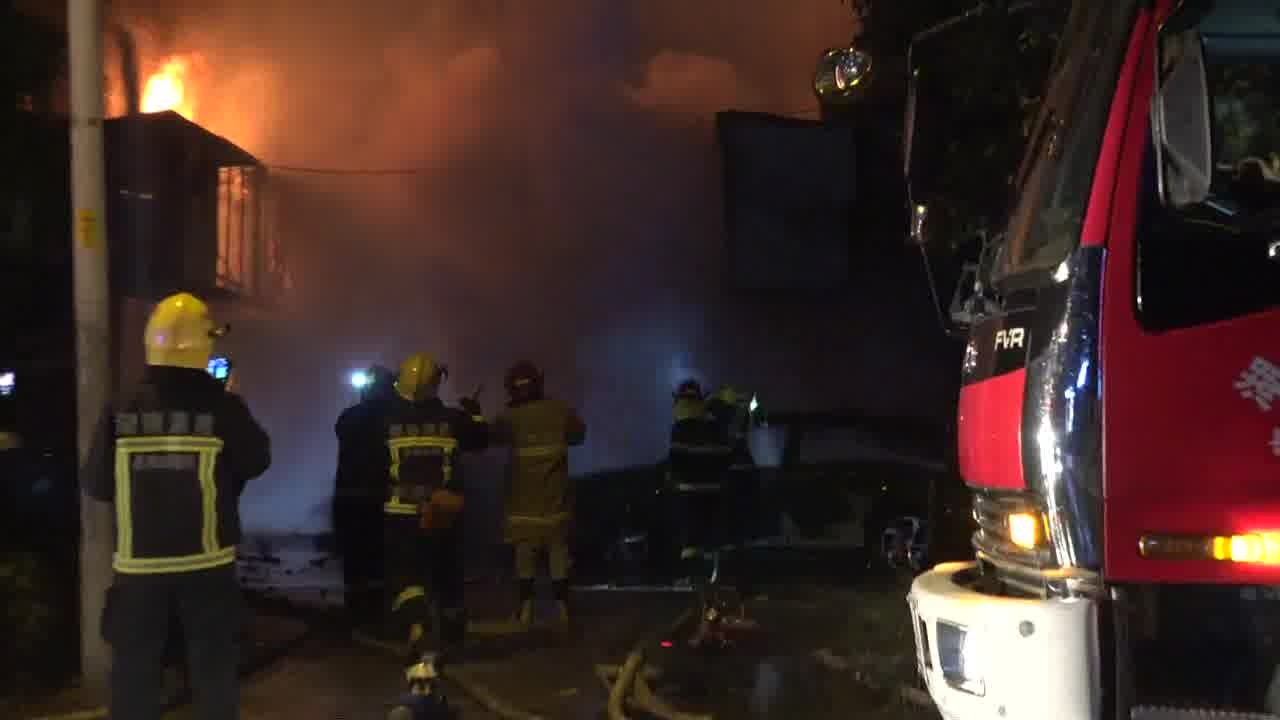fire: (139, 55, 190, 117)
